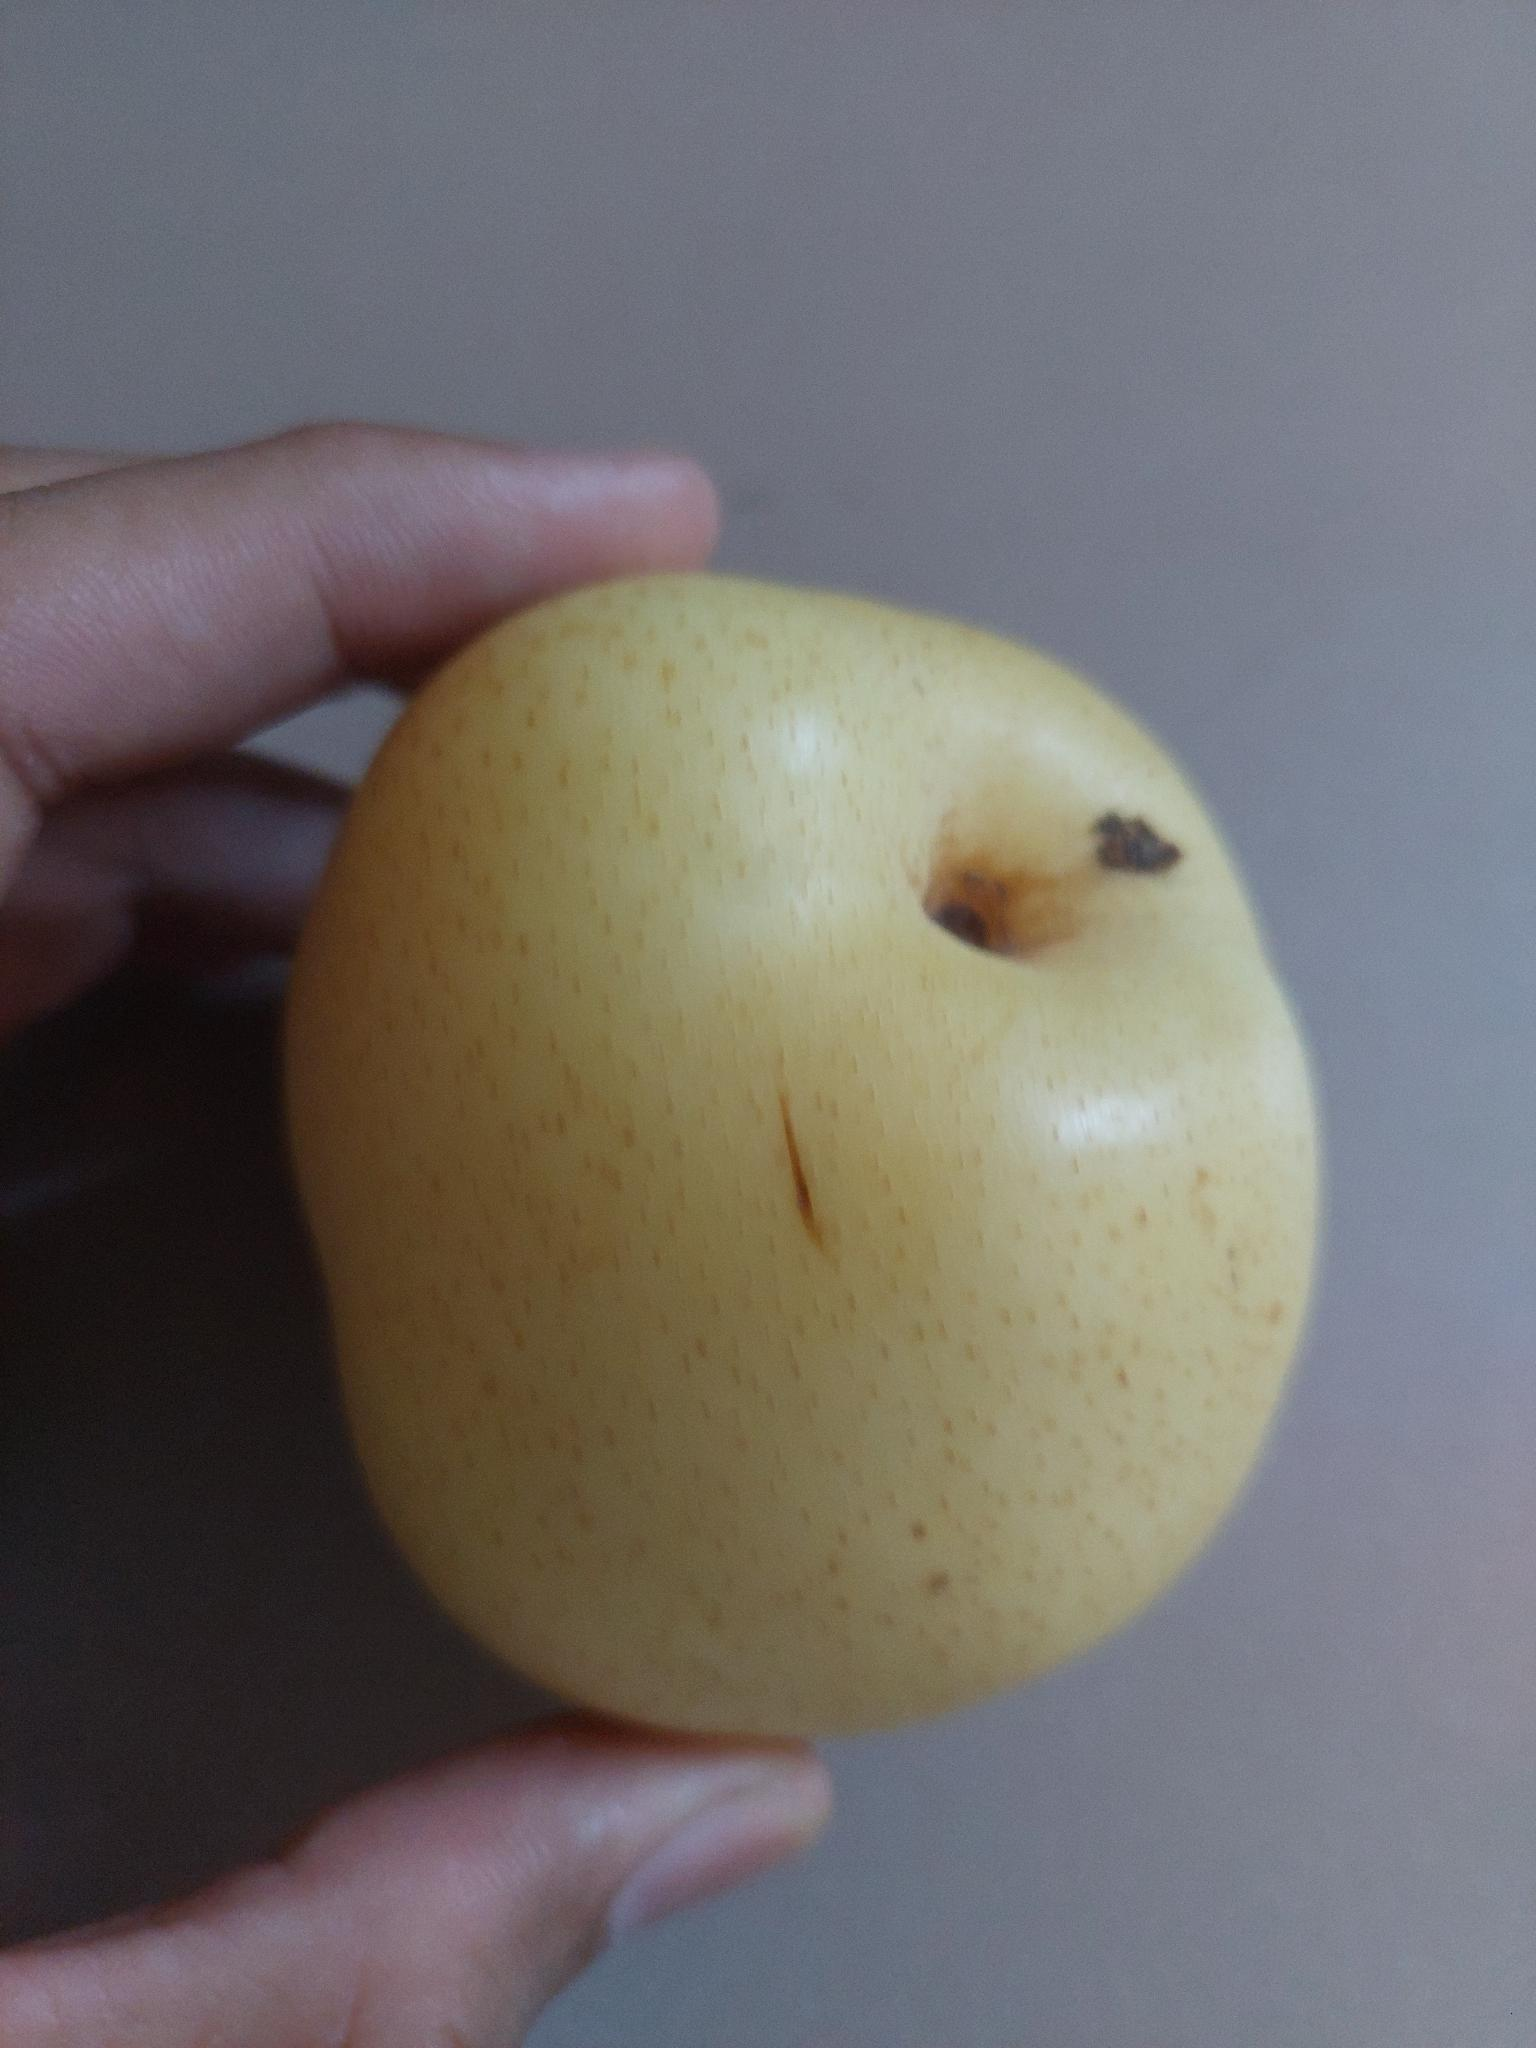Good Pear: (271, 548, 1338, 1755)
